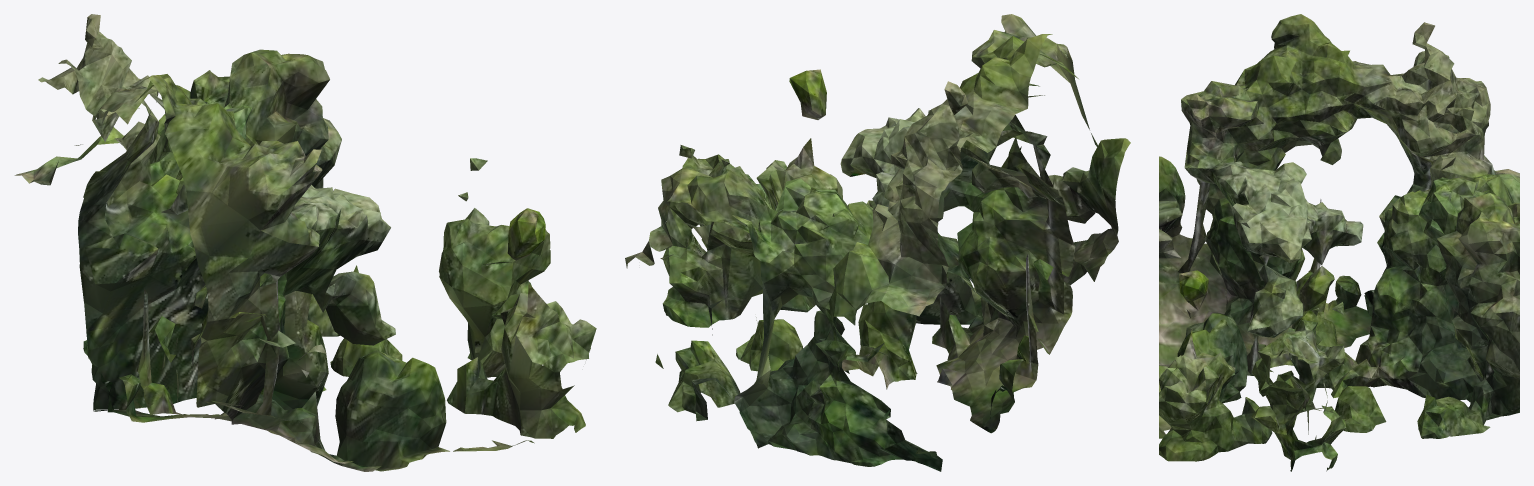
3 views of the same model, side by side, from view 1: azimuth 30°, elevation 25°; view 2: azimuth 150°, elevation 25°; view 3: azimuth 270°, elevation 25° (orthographic). The views are drawn at different scales.
Bounding box in the file's own units: 26.11 × 24.46 × 26.11.
8 materials, 8 textured.
